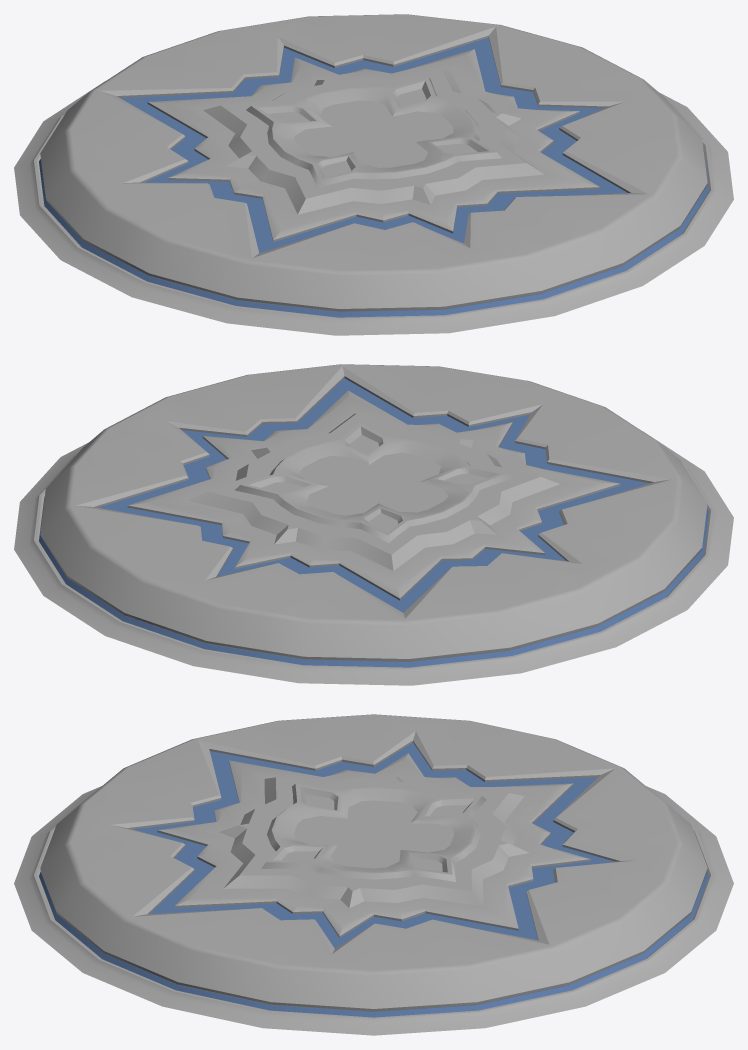
File: SM_BallPlatform.fbx
The picture shows the model from 3 angles, top to bottom: view 1: azimuth 30°, elevation 25°; view 2: azimuth 150°, elevation 25°; view 3: azimuth 270°, elevation 25°; orthographic projection.
Parts seen in each view (by area): view 1: SM_BallPlatform; view 2: SM_BallPlatform; view 3: SM_BallPlatform.
Part boxes in pixels (x1,y1,x2,y2): SM_BallPlatform: [14, 14, 733, 335]; SM_BallPlatform: [14, 364, 733, 685]; SM_BallPlatform: [14, 714, 733, 1035].
Bounding box in the file's own units: 319 × 26.55 × 319.
